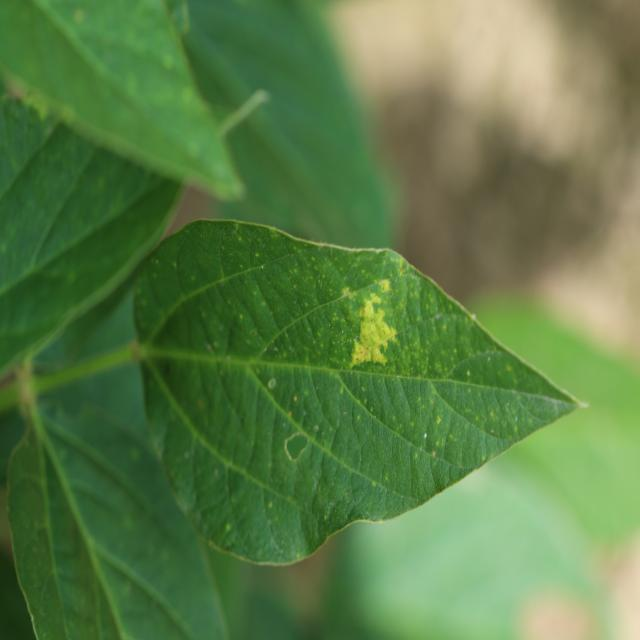Soybean: (0, 0, 588, 640)
downey_mildew: (139, 224, 327, 374), (6, 402, 119, 640), (0, 106, 104, 306), (245, 363, 359, 520), (336, 373, 465, 507), (380, 310, 574, 399), (151, 345, 256, 485), (428, 377, 573, 468), (171, 2, 273, 124), (100, 536, 217, 640), (0, 3, 93, 130), (342, 299, 430, 431), (136, 233, 213, 346), (351, 303, 470, 376), (215, 467, 298, 561), (159, 391, 202, 517), (174, 222, 230, 302), (142, 359, 176, 474), (274, 236, 390, 262), (218, 223, 268, 283), (338, 249, 409, 291), (401, 270, 428, 335)
